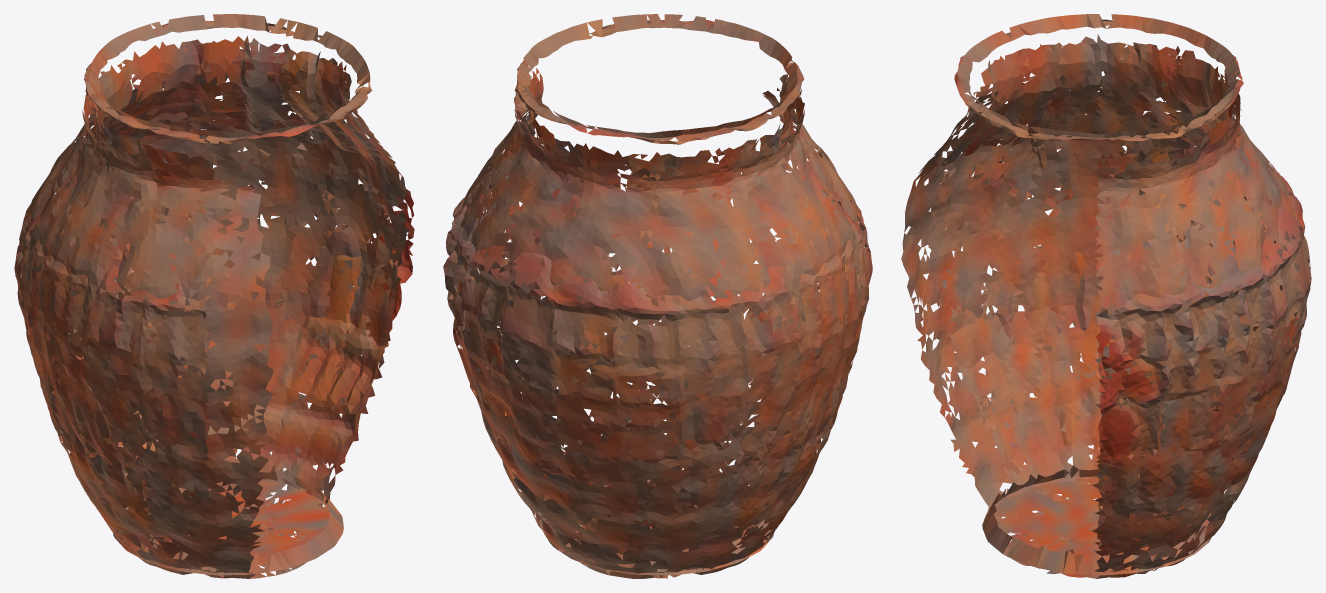
Rendered from vase2_final100.obj.
3 views of the same model, side by side, from view 1: azimuth 30°, elevation 25°; view 2: azimuth 150°, elevation 25°; view 3: azimuth 270°, elevation 25° (orthographic).
Bounding box in the file's own units: 1.42 × 1.71 × 1.37.
